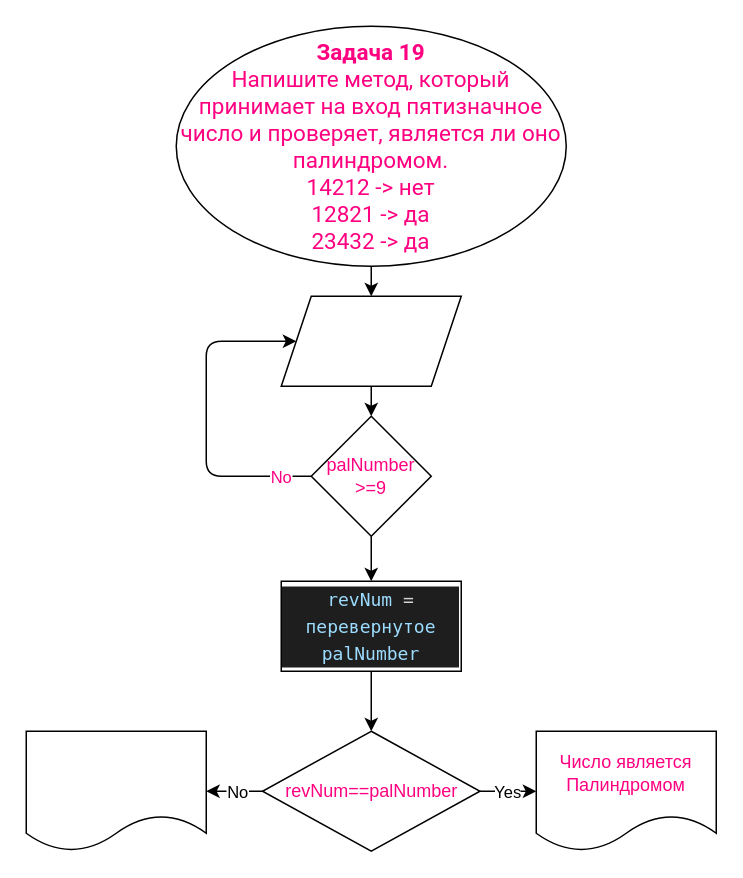
This 743x878 diagram has some shape labels left out. The box of each missing label's shape, as (x1, y1, x2, y2) in pixels:
palNumber: (280, 295, 461, 386)
Число НЕ является Палиндромом: (25, 730, 206, 851)
